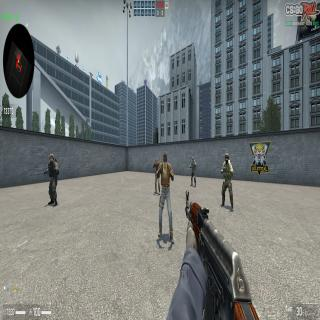CT-Body: (44, 154, 60, 206), (220, 153, 234, 212), (190, 156, 197, 188)
CT-Head: (49, 154, 54, 163), (225, 154, 229, 164), (192, 156, 194, 162)
T-Body: (158, 153, 175, 244), (153, 157, 161, 195)
T-Head: (163, 153, 167, 168), (156, 156, 158, 164)
